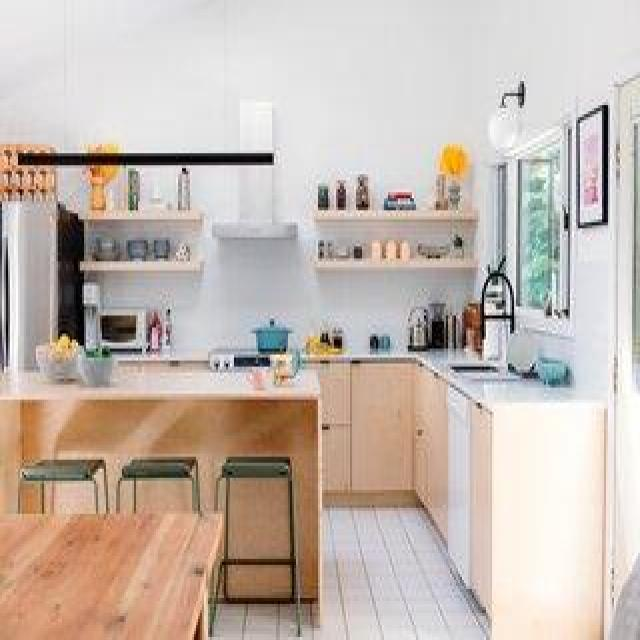dishwasher: (442, 376, 477, 606)
